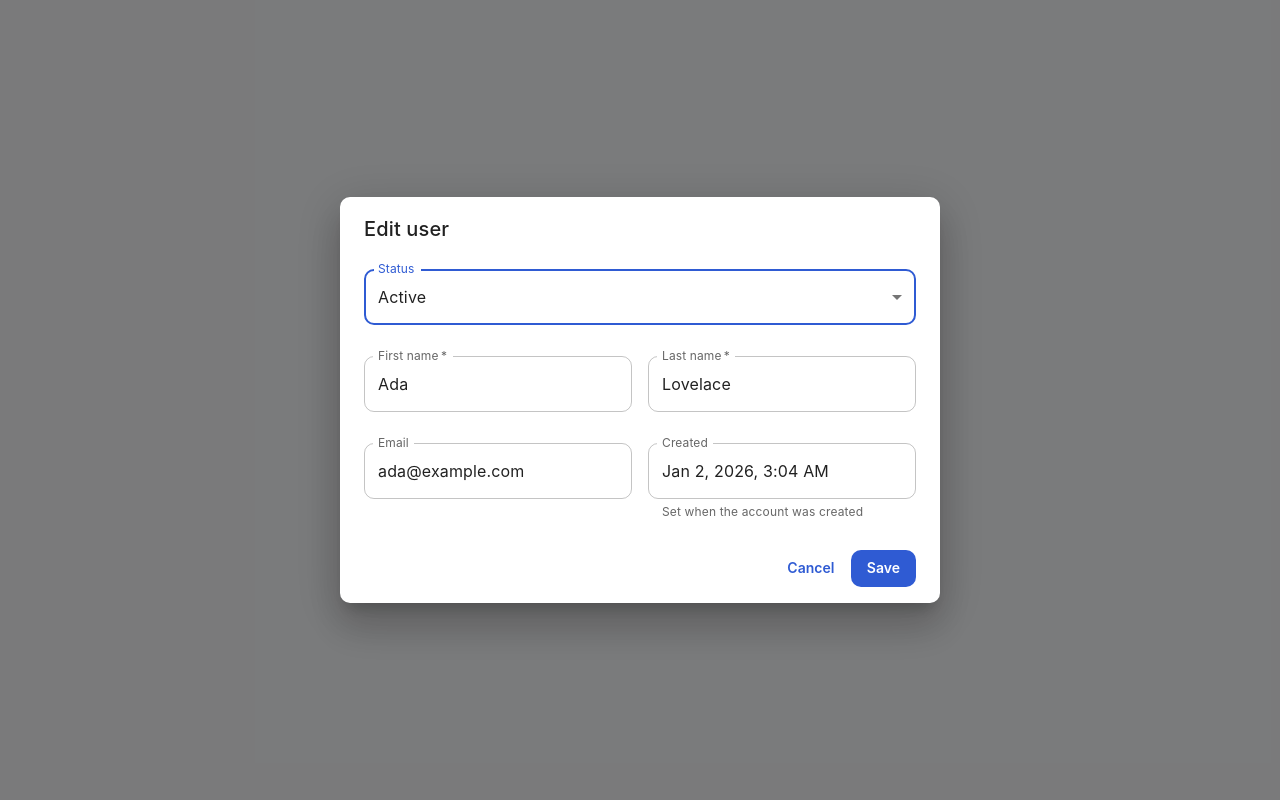
Test: EditUserDialog (T7.5, C5) › switching an active user to Inactive disables names and discards unsaved edits
Replace the text in the field labelled "First name *" with "Changed" at (498, 384), box [364, 356, 632, 412]
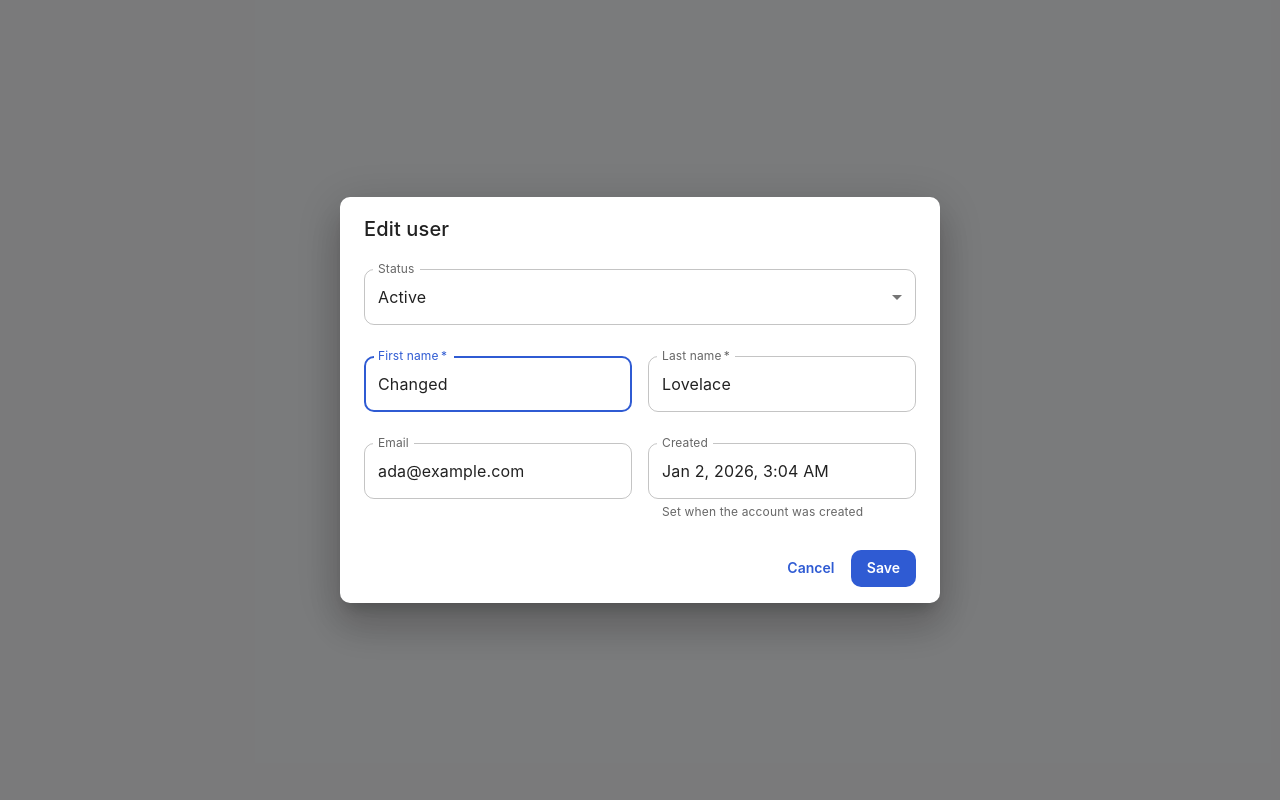
Click the dropdown named "status" at (402, 297), box [378, 287, 426, 307]
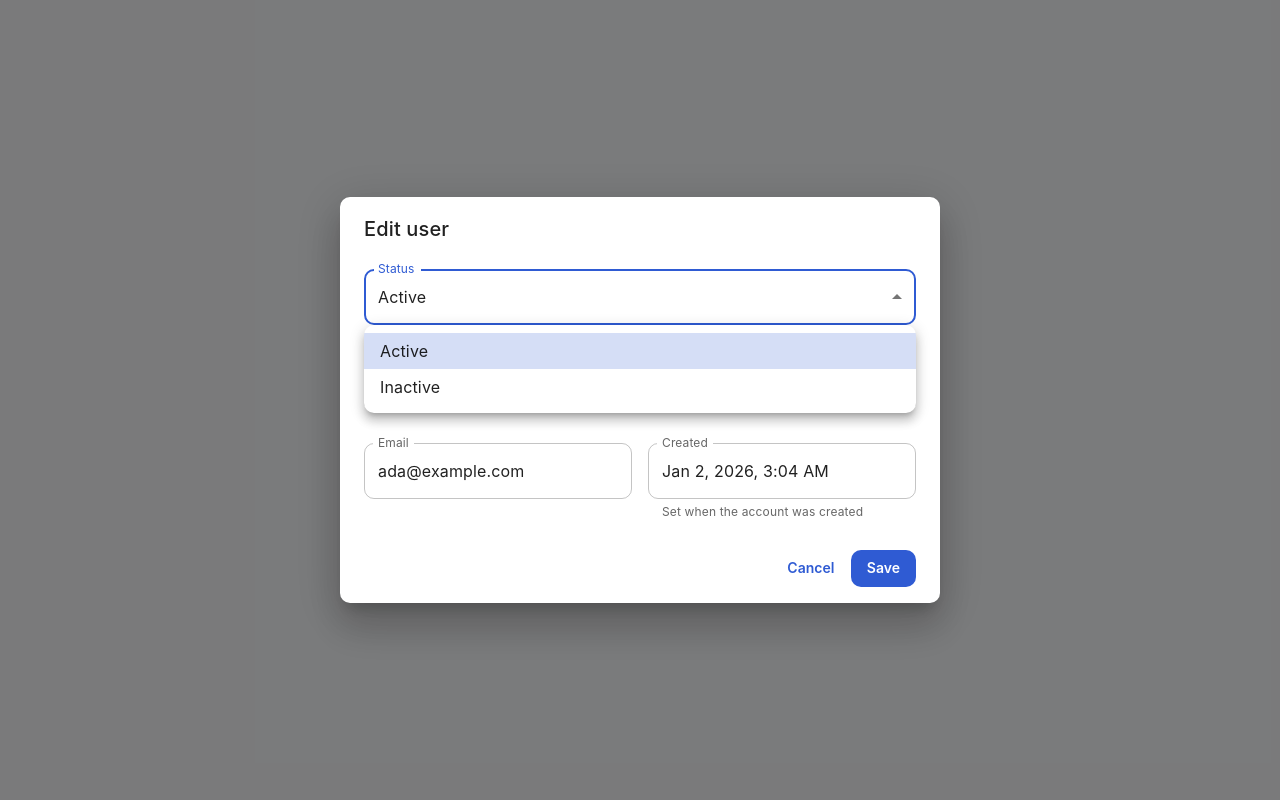
Click the option "Inactive" at (410, 387), box [380, 377, 440, 397]
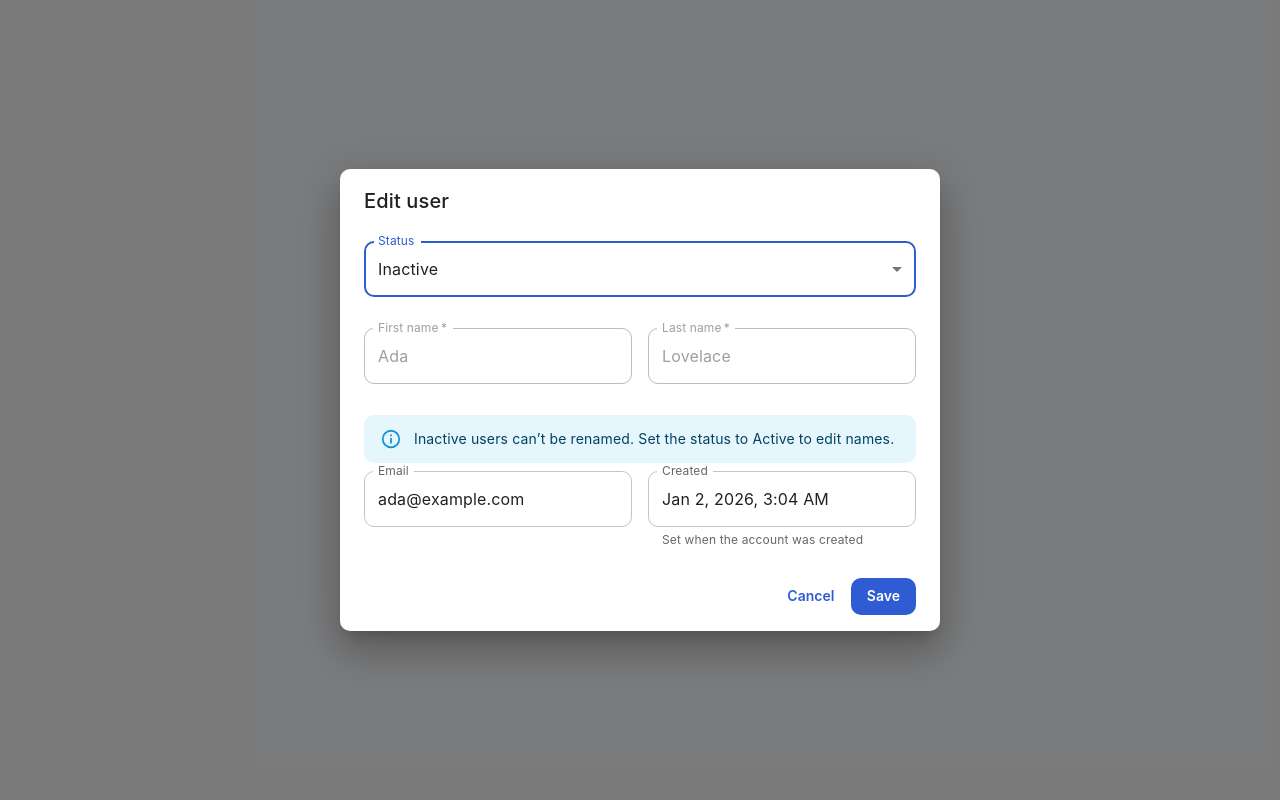
Now the field labelled "First name *" is disabled, box [364, 328, 632, 384]
Now the field labelled "First name *" holds "Ada", box [364, 328, 632, 384]
